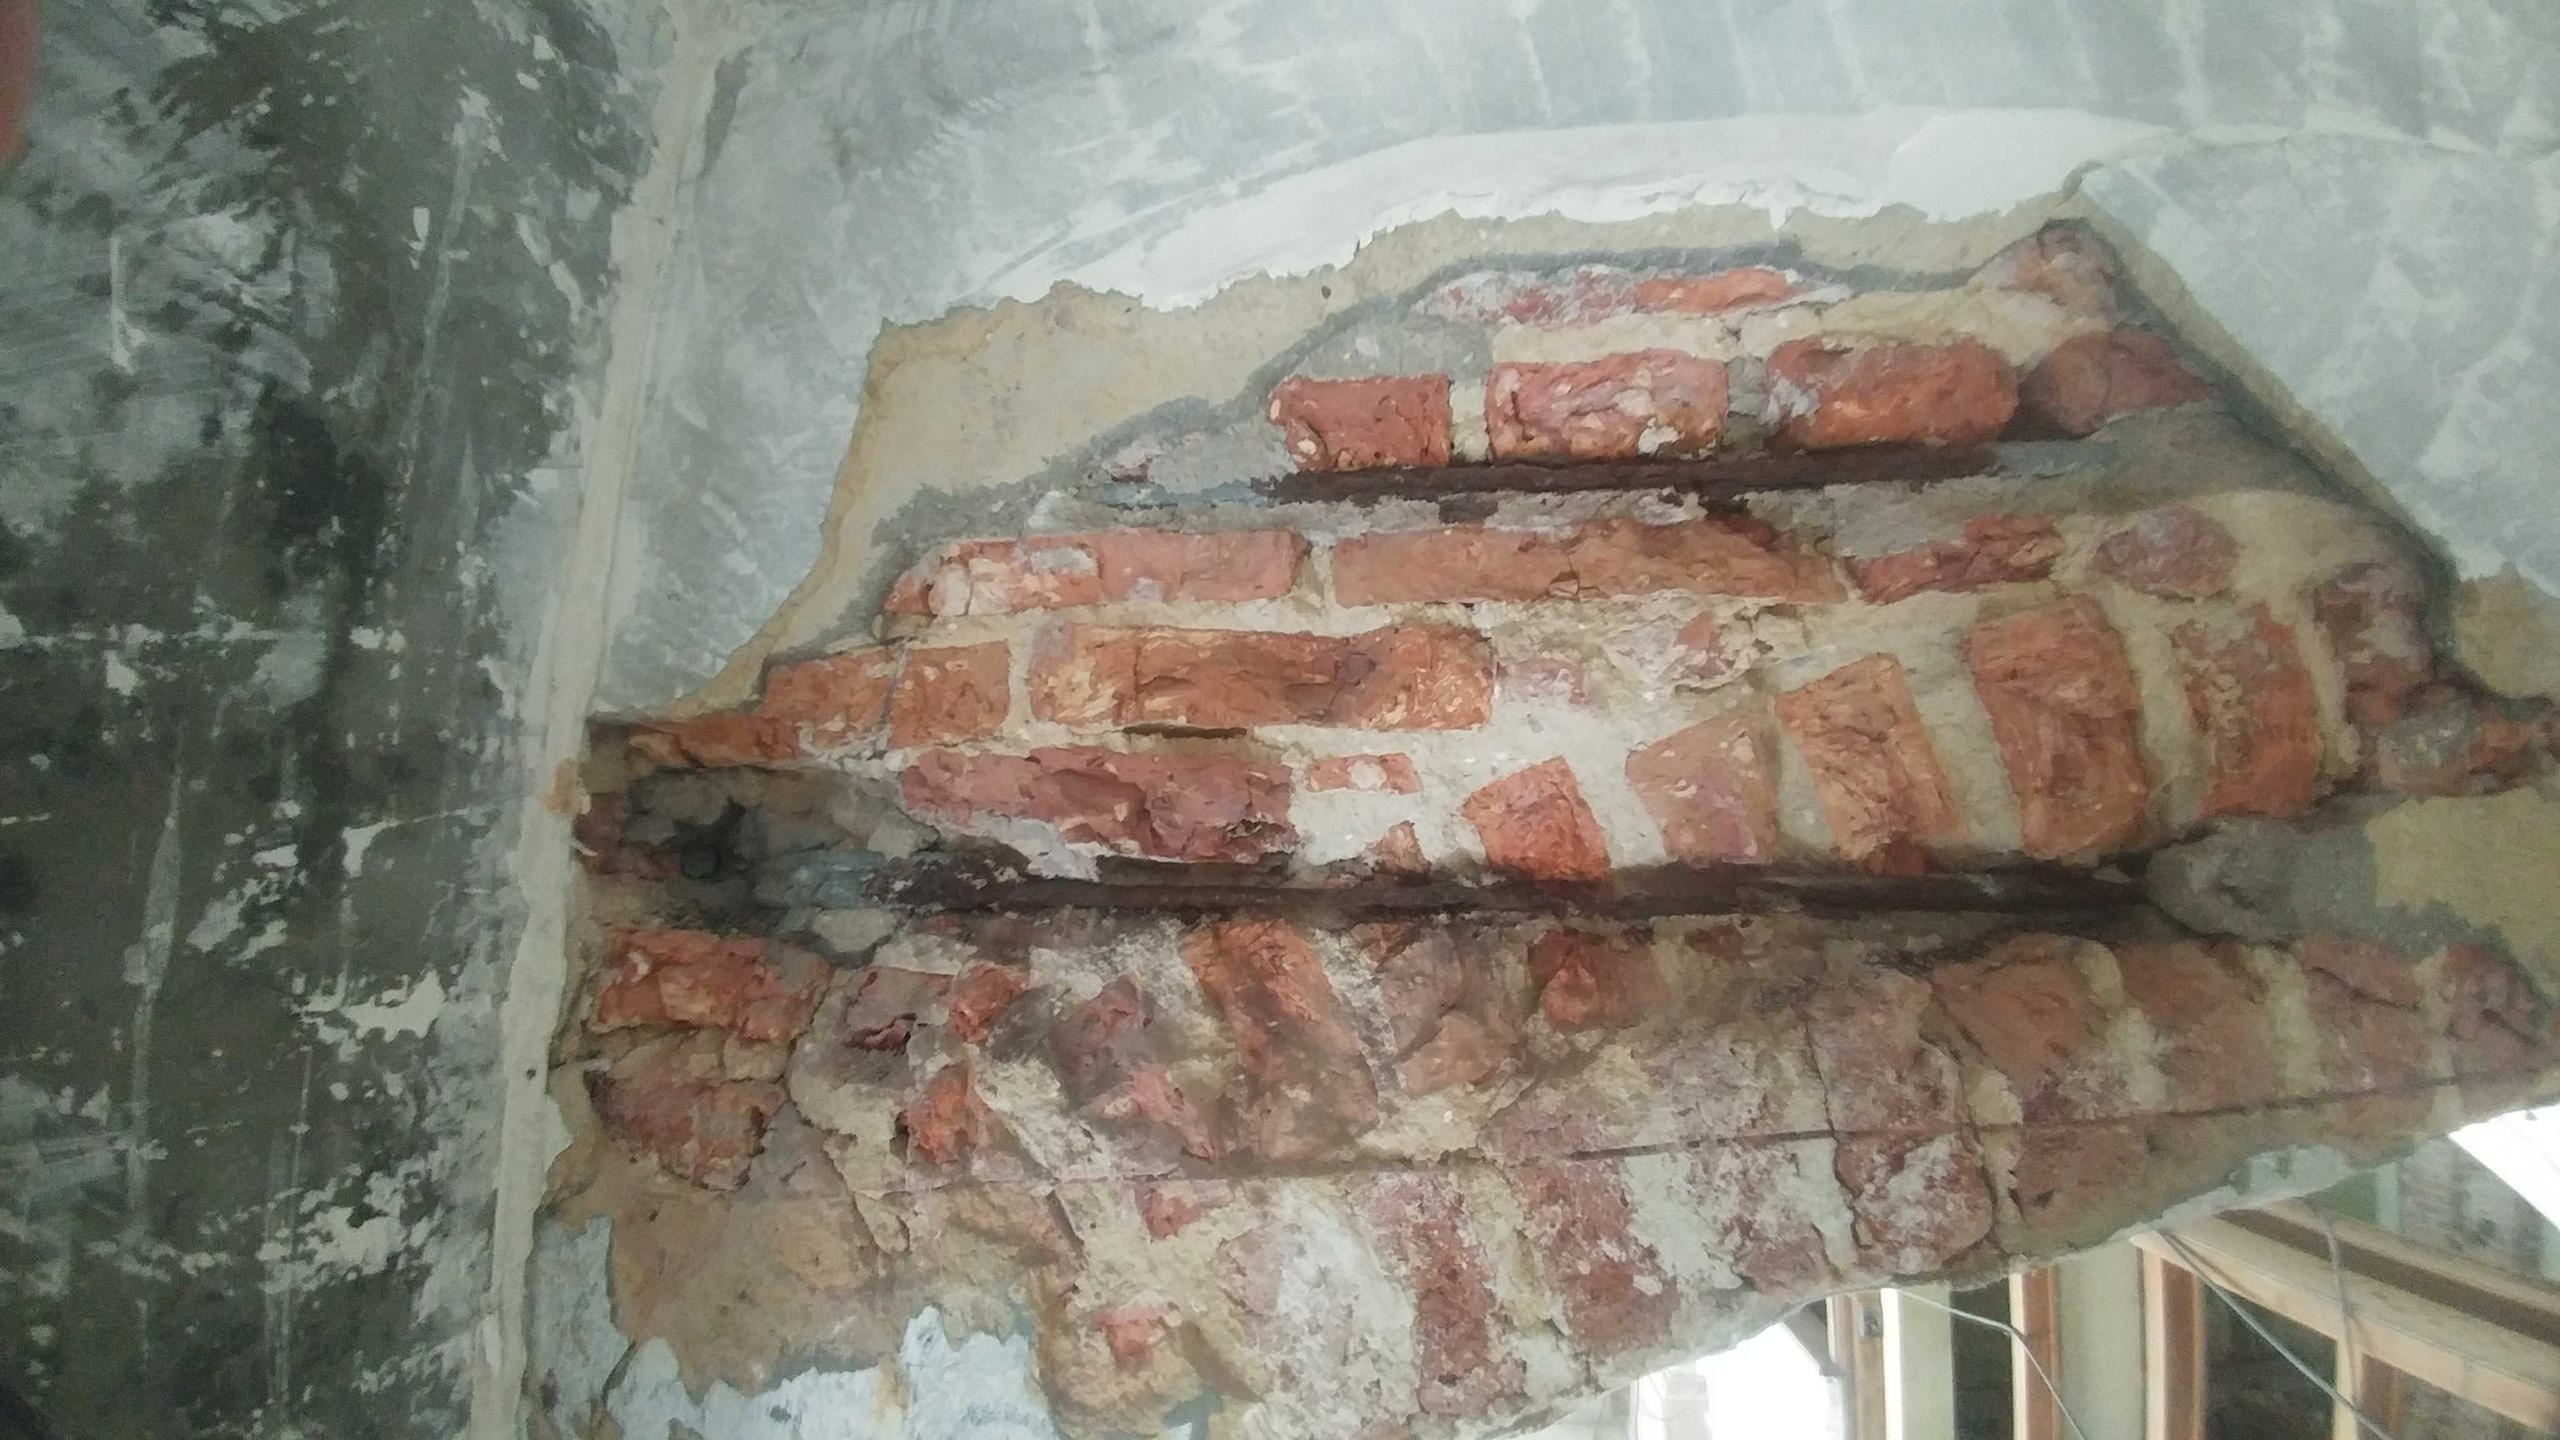Exposed reinforcement: (856, 832, 2152, 918), (2154, 1229, 2396, 1440), (1248, 441, 1999, 506), (1885, 1285, 2085, 1440), (2293, 1194, 2361, 1440), (1122, 721, 1247, 742)
Spalling: (512, 185, 2560, 1440)
